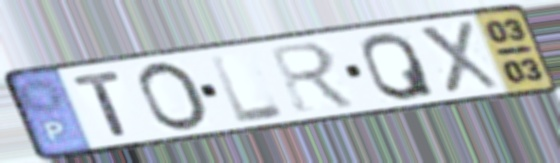L: (206, 50, 289, 125)
O: (135, 60, 213, 135)
Q: (359, 29, 440, 103)
R: (264, 39, 363, 115)
T: (69, 68, 133, 139)
X: (413, 19, 504, 96)
